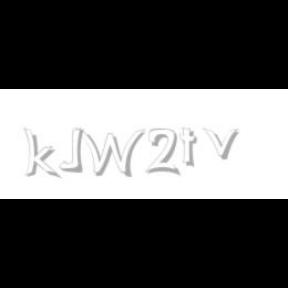2: (145, 128, 179, 176)
J: (58, 128, 84, 172)
W: (74, 128, 146, 178)
k: (23, 128, 61, 180)
t: (180, 128, 202, 168)
v: (203, 128, 243, 160)
